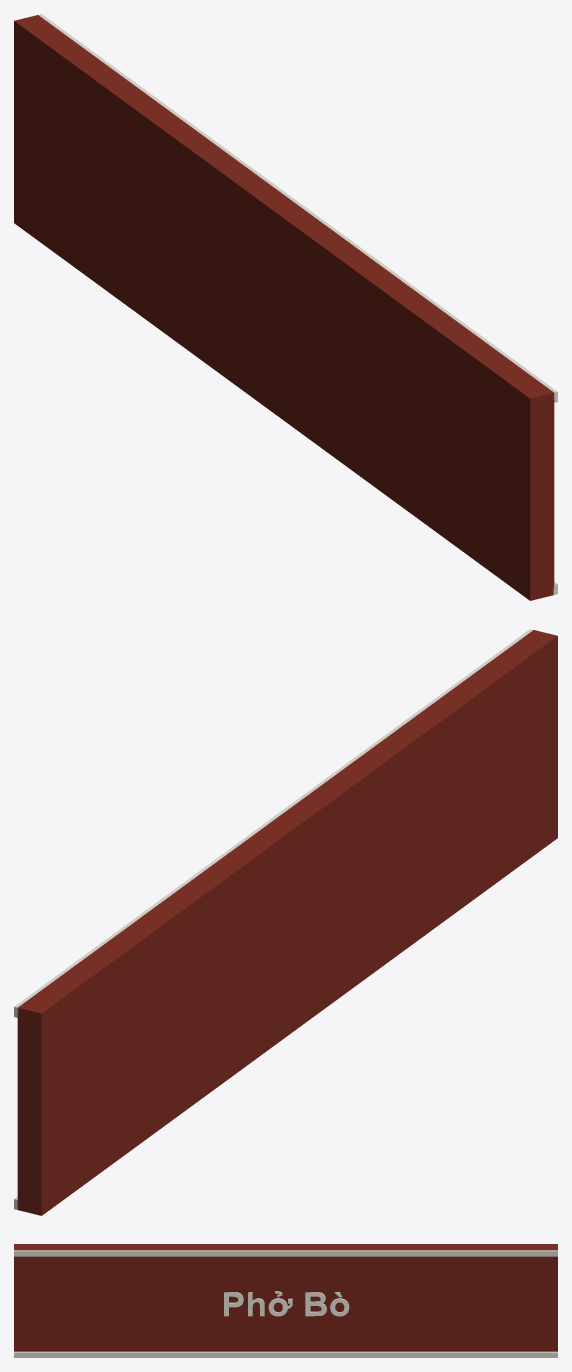
The model's file is OW_Mau_Bang_8_0_0.fbx.
3 renders of one model, top to bottom at view 1: azimuth 30°, elevation 25°; view 2: azimuth 150°, elevation 25°; view 3: azimuth 270°, elevation 25°, orthographic. The views are drawn at different scales.
Parts seen in each view (by area): view 1: OW_Bang_Phở Bò.005; view 2: OW_Bang_Phở Bò.005; view 3: OW_Bang_Phở Bò.005, Chữ • Phở Bò.005_Mesh.
Part boxes in pixels (<box>): OW_Bang_Phở Bò.005: <box>14,14,557,600</box>; OW_Bang_Phở Bò.005: <box>14,629,557,1215</box>; OW_Bang_Phở Bò.005: <box>14,1244,557,1357</box>; Chữ • Phở Bò.005_Mesh: <box>224,1291,349,1316</box>.
Bounding box in the file's own units: 0.24 × 1.6 × 7.4.
